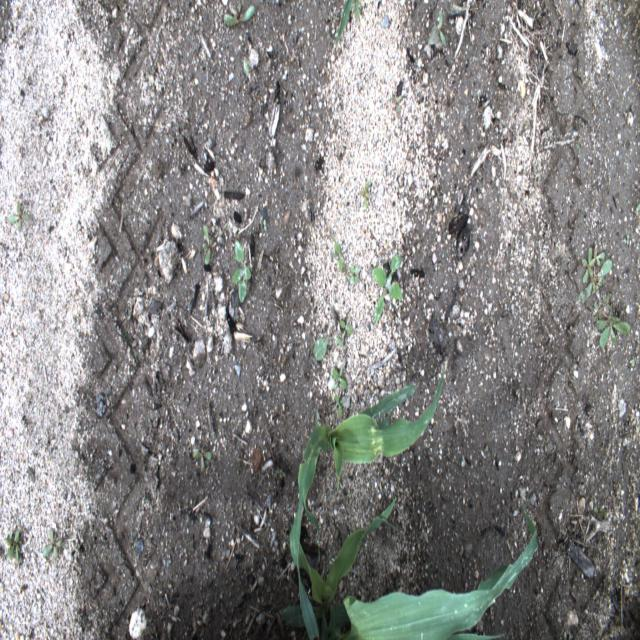crop: (278, 495, 541, 639), (289, 368, 444, 578), (334, 0, 364, 52)
weed: (369, 244, 404, 324), (592, 292, 634, 356), (579, 235, 614, 308), (228, 236, 255, 304), (221, 1, 260, 40), (310, 329, 340, 375), (8, 193, 34, 243), (0, 516, 25, 564), (197, 215, 217, 272), (426, 7, 448, 56), (41, 522, 64, 566), (353, 171, 372, 220), (330, 233, 349, 277), (191, 444, 216, 476), (336, 314, 356, 353), (324, 386, 348, 418), (330, 363, 350, 393), (527, 157, 544, 191), (389, 88, 404, 126), (257, 208, 274, 240), (347, 254, 362, 290), (239, 48, 253, 78), (627, 350, 636, 370)
